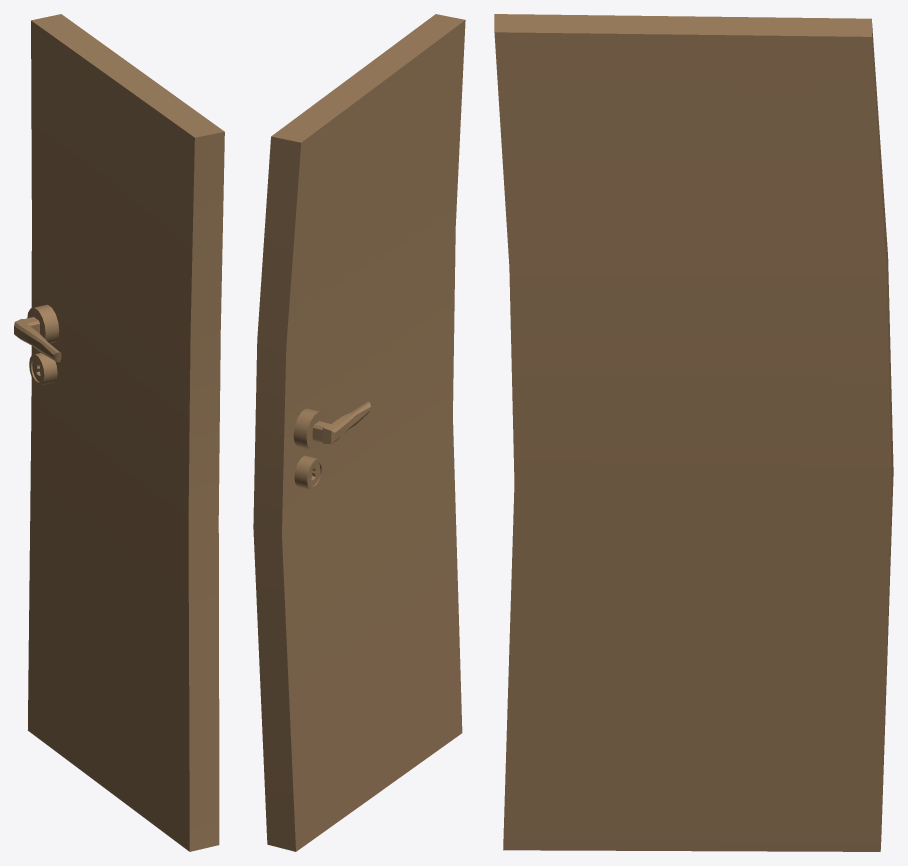
File: door_LP.fbx
3 views of the same model, side by side, from view 1: azimuth 30°, elevation 25°; view 2: azimuth 150°, elevation 25°; view 3: azimuth 270°, elevation 25° (orthographic). The views are drawn at different scales.
Visible parts, largest first — view 1: door_LP; view 2: door_LP; view 3: door_LP.
Boxes of the visible parts, x1=… form: door_LP: x1=14, y1=14, x2=224, y2=851; door_LP: x1=253, y1=14, x2=465, y2=851; door_LP: x1=494, y1=14, x2=893, y2=851.
Size of the model in its own units: 0.4648 by 4.89 by 2.16.
